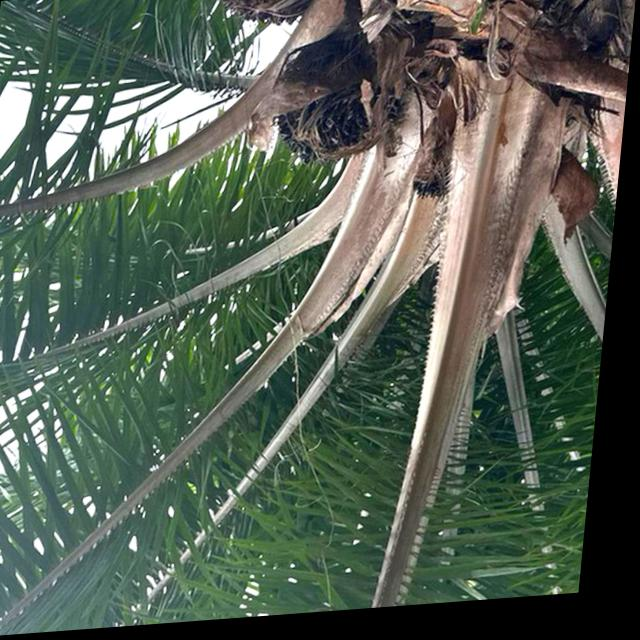unripe: (266, 33, 410, 175)
